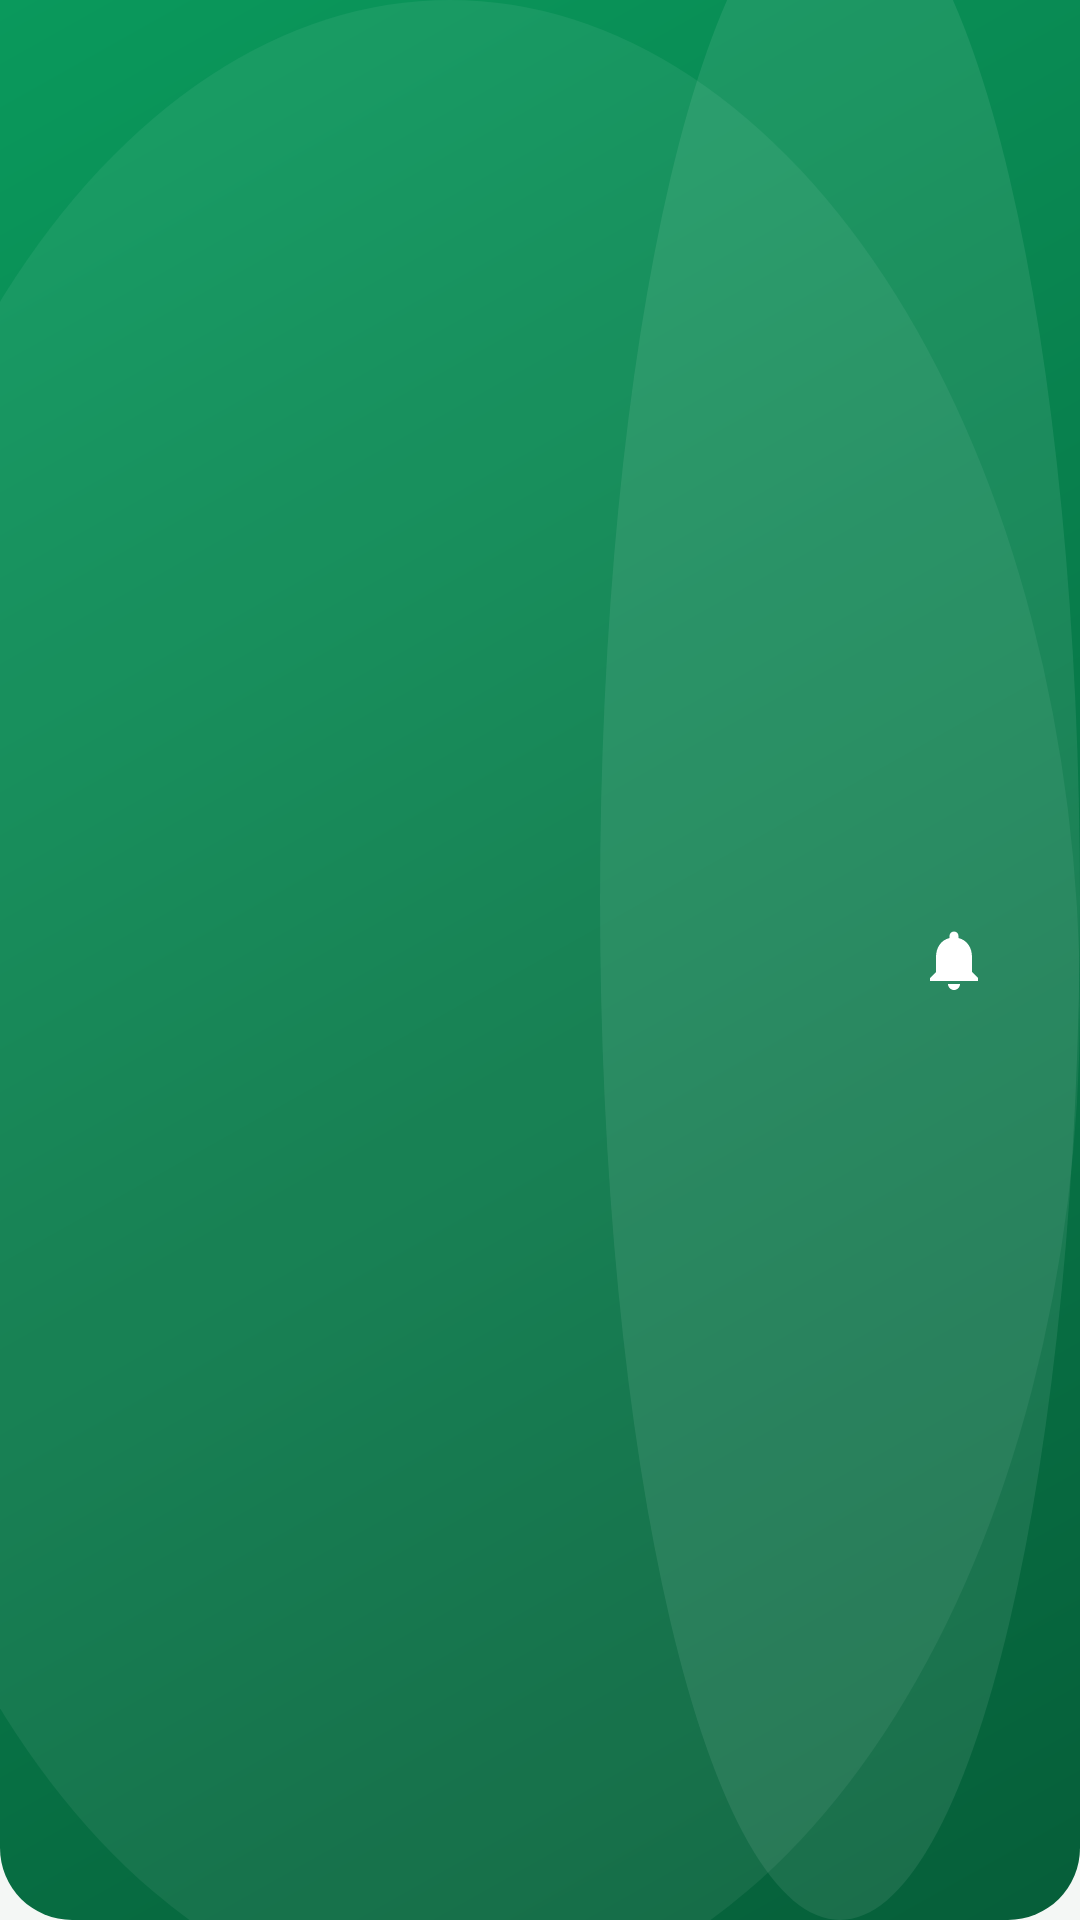

Named icons in this screenshot (1080w x 1920h) and their bounding boxes, (x1, y1, x2, y2):
Notifications: (930, 931, 978, 990)
